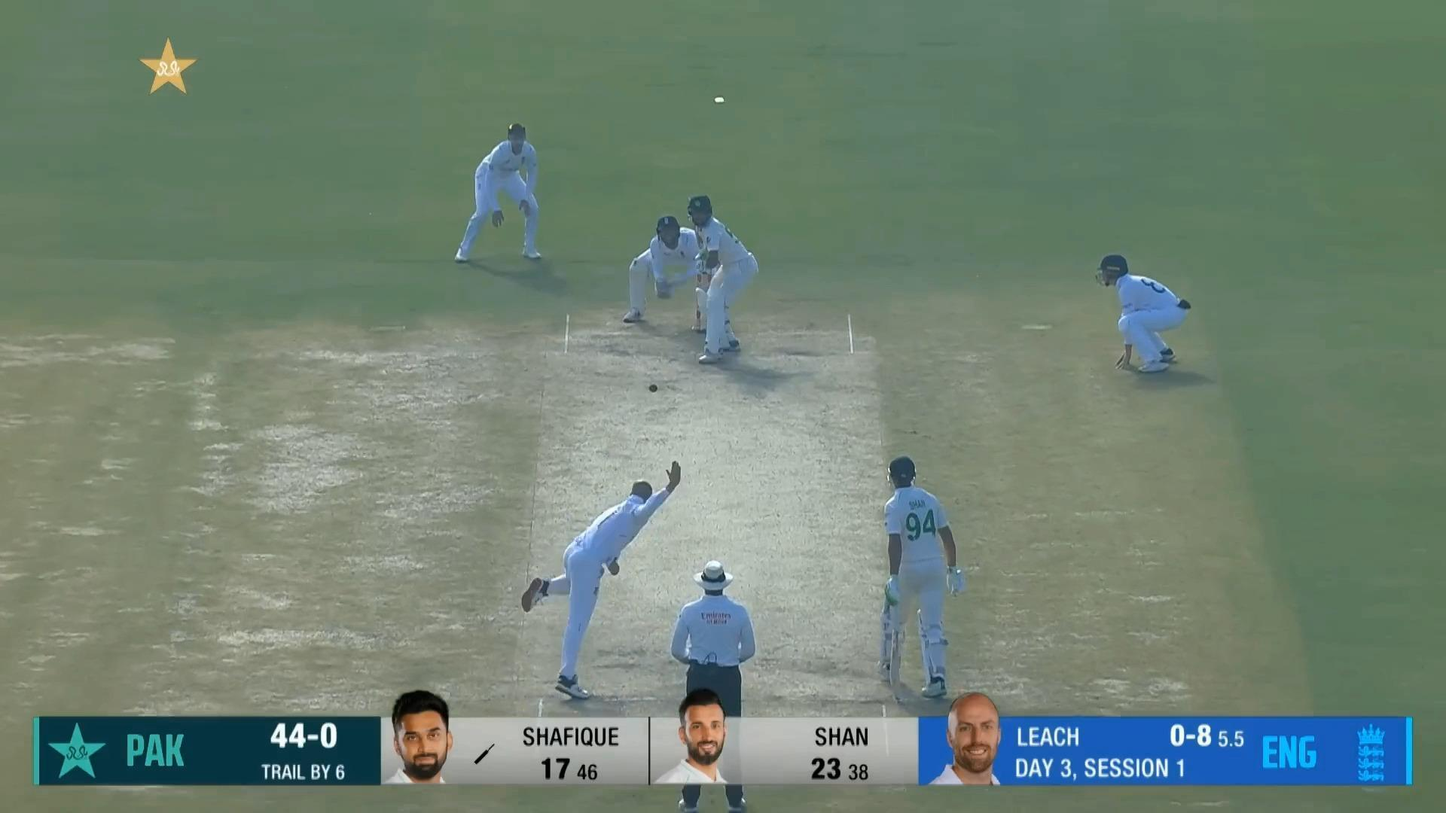BM 1: (687, 195, 759, 364)
BO: (520, 458, 684, 702)
